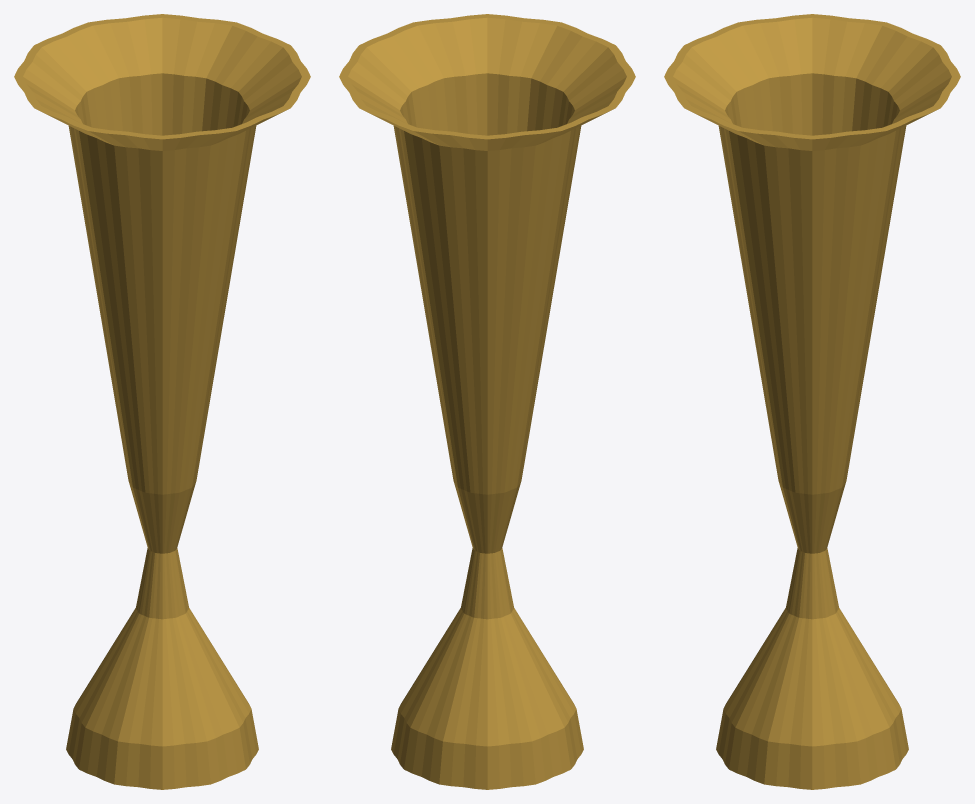
File: wh-tall-classic-gold-vase.glb
3 views of the same model, side by side, from view 1: azimuth 30°, elevation 25°; view 2: azimuth 150°, elevation 25°; view 3: azimuth 270°, elevation 25° (orthographic).
Parts seen in each view (by area): view 1: Turned trumpet vase.001; view 2: Turned trumpet vase.001; view 3: Turned trumpet vase.001.
Part boxes in pixels (x1=…): Turned trumpet vase.001: x1=14, y1=14, x2=310, y2=789; Turned trumpet vase.001: x1=339, y1=14, x2=635, y2=789; Turned trumpet vase.001: x1=664, y1=14, x2=960, y2=789.
Bounding box in the file's own units: 0.26 × 0.65 × 0.26.
